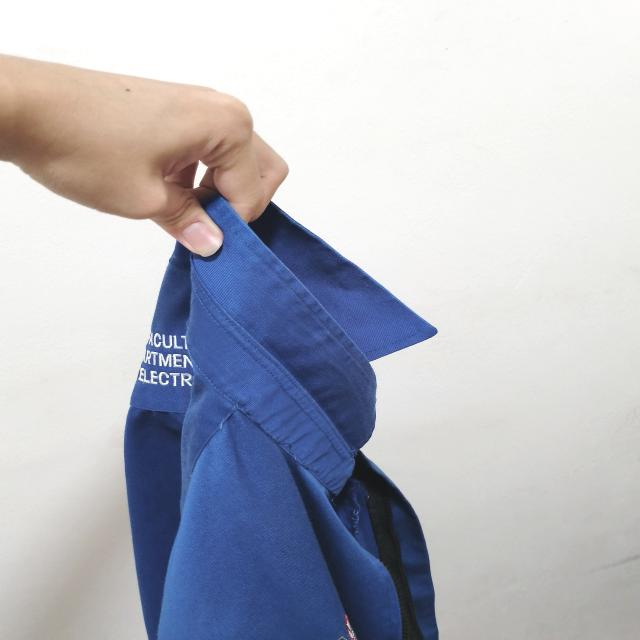person_without_labcoat: (0, 56, 438, 640)
